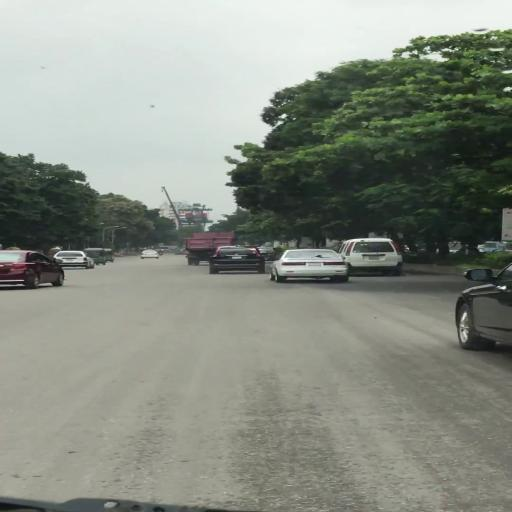car: (1, 250, 70, 292), (273, 250, 351, 284), (56, 252, 95, 270), (141, 251, 162, 261)
minivan: (343, 239, 405, 278)
suv: (210, 247, 266, 276)
three wheelers CNG: (89, 249, 108, 267), (106, 250, 116, 264)
truck: (184, 232, 239, 252)
